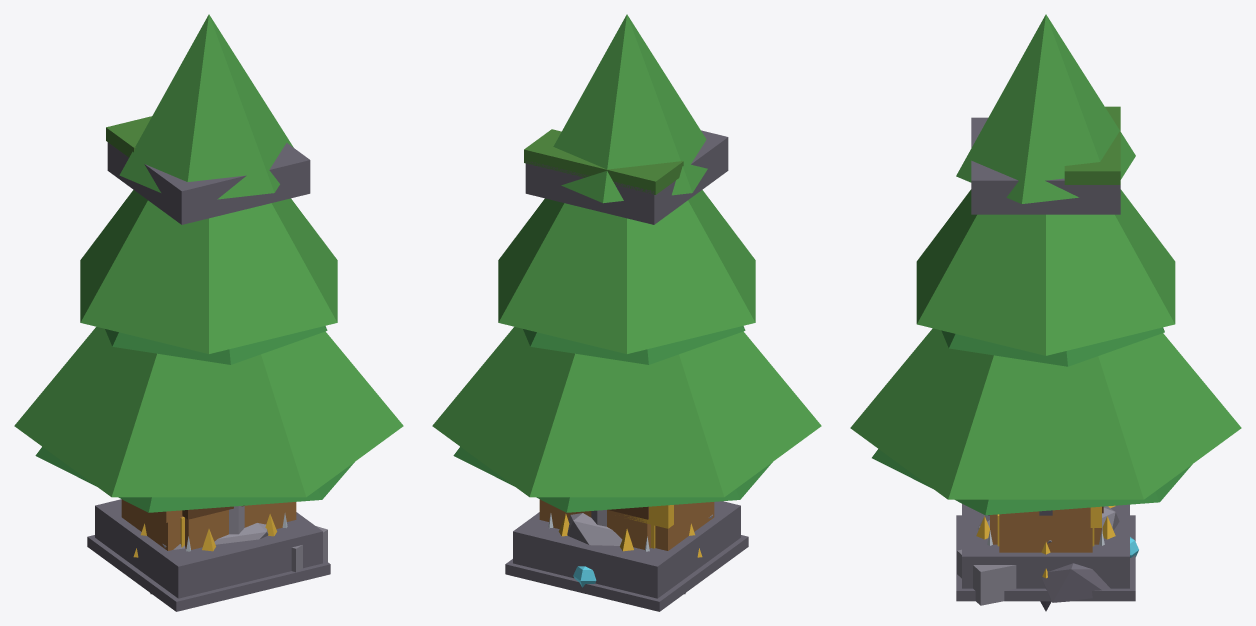
File: props.glb
3 views of the same model, side by side, from view 1: azimuth 30°, elevation 25°; view 2: azimuth 150°, elevation 25°; view 3: azimuth 270°, elevation 25° (orthographic).
Parts seen in each view (by area): view 1: P_Arbre2_F1, P_Arbre2_F2, P_Arbre2_F3, P_Pilier_Base, P_Pilier_Chapiteau, P_Piques_Plaque, P_Arbre_F1, P_Arbre_F2, P_Caisse_Corps, P_Coffre_Corps, P_Pilier_Mousse, P_Rocher_A; view 2: P_Arbre2_F1, P_Arbre2_F2, P_Arbre2_F3, P_Pilier_Base, P_Pilier_Chapiteau, P_Pilier_Mousse, P_Piques_Plaque, P_Arbre_F1, P_Arbre_F2, P_Coffre_Corps, P_Caisse_Corps, P_Rocher_A (+1 smaller); view 3: P_Arbre2_F1, P_Arbre2_F2, P_Arbre2_F3, P_Pilier_Base, P_Pilier_Chapiteau, P_Arbre_F1, P_Arbre_F2, P_Coffre_Corps, P_Piques_Plaque, P_Pilier_Mousse, P_Rocher_B, P_PilierBrise_Eclat (+1 smaller).
Boxes of the visible parts, <box> form: P_Arbre2_F1: <box>14,327,403,497</box>; P_Arbre2_F2: <box>80,190,337,353</box>; P_Arbre2_F3: <box>119,14,293,199</box>; P_Pilier_Base: <box>95,499,322,598</box>; P_Pilier_Chapiteau: <box>107,142,310,224</box>; P_Piques_Plaque: <box>87,535,330,611</box>; P_Arbre_F1: <box>35,446,354,512</box>; P_Arbre_F2: <box>105,326,327,364</box>; P_Caisse_Corps: <box>185,502,284,549</box>; P_Coffre_Corps: <box>121,499,296,550</box>; P_Pilier_Mousse: <box>106,116,151,157</box>; P_Rocher_A: <box>162,523,268,549</box>; P_Arbre2_F1: <box>432,327,821,497</box>; P_Arbre2_F2: <box>498,190,755,353</box>; P_Arbre2_F3: <box>553,14,707,203</box>; P_Pilier_Base: <box>513,501,740,598</box>; P_Pilier_Chapiteau: <box>525,130,728,224</box>; P_Pilier_Mousse: <box>524,129,683,194</box>; P_Piques_Plaque: <box>505,535,748,611</box>; P_Arbre_F1: <box>453,446,772,512</box>; P_Arbre_F2: <box>523,326,745,364</box>; P_Coffre_Corps: <box>539,499,714,550</box>; P_Caisse_Corps: <box>551,505,650,549</box>; P_Rocher_A: <box>567,513,712,545</box>; P_Arbre2_F1: <box>850,328,1241,499</box>; P_Arbre2_F2: <box>916,189,1175,355</box>; P_Arbre2_F3: <box>956,14,1135,203</box>; P_Pilier_Base: <box>962,504,1129,588</box>; P_Pilier_Chapiteau: <box>971,117,1120,214</box>; P_Arbre_F1: <box>872,449,1192,515</box>; P_Arbre_F2: <box>941,327,1164,366</box>; P_Coffre_Corps: <box>999,524,1092,552</box>; P_Piques_Plaque: <box>956,515,1135,601</box>; P_Pilier_Mousse: <box>1064,106,1120,184</box>; P_Rocher_B: <box>1042,563,1110,602</box>; P_PilierBrise_Eclat: <box>957,549,1016,605</box>.
Size of the model in its own units: 1.82 by 3.37 by 2.1.
